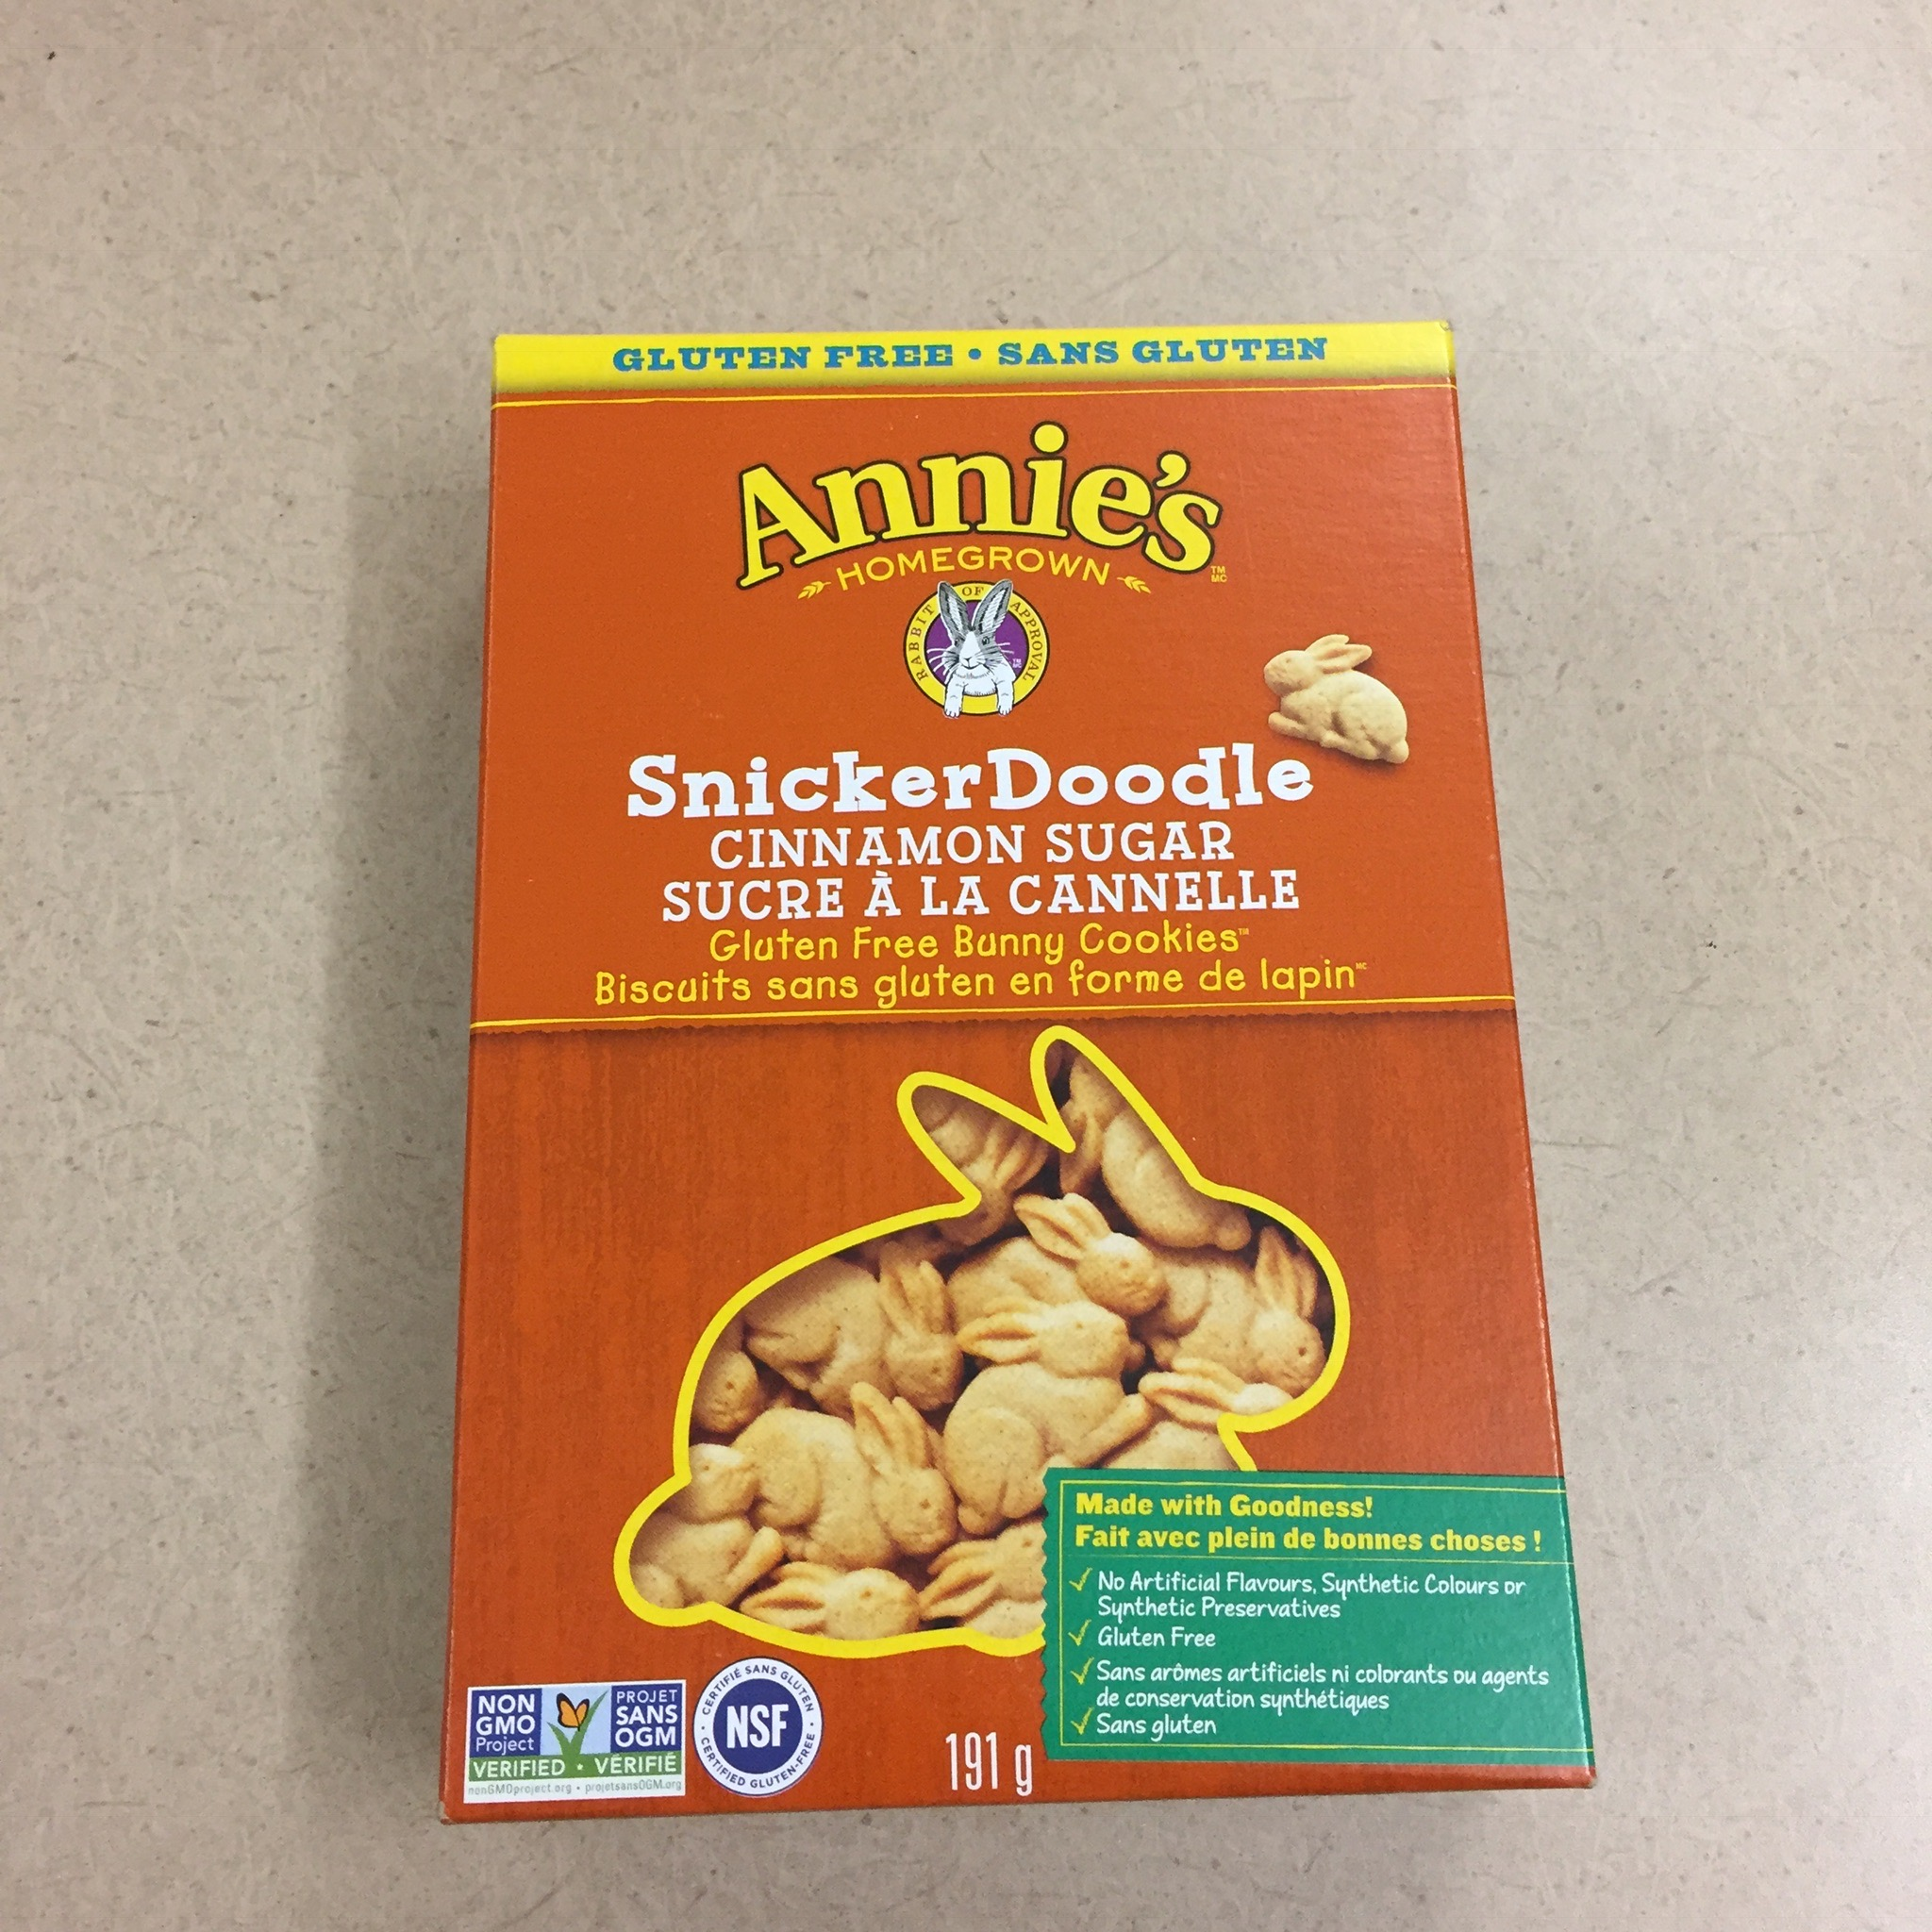annies_snickerdoodle_cinnamon_sugar: (432, 310, 1601, 1831)
